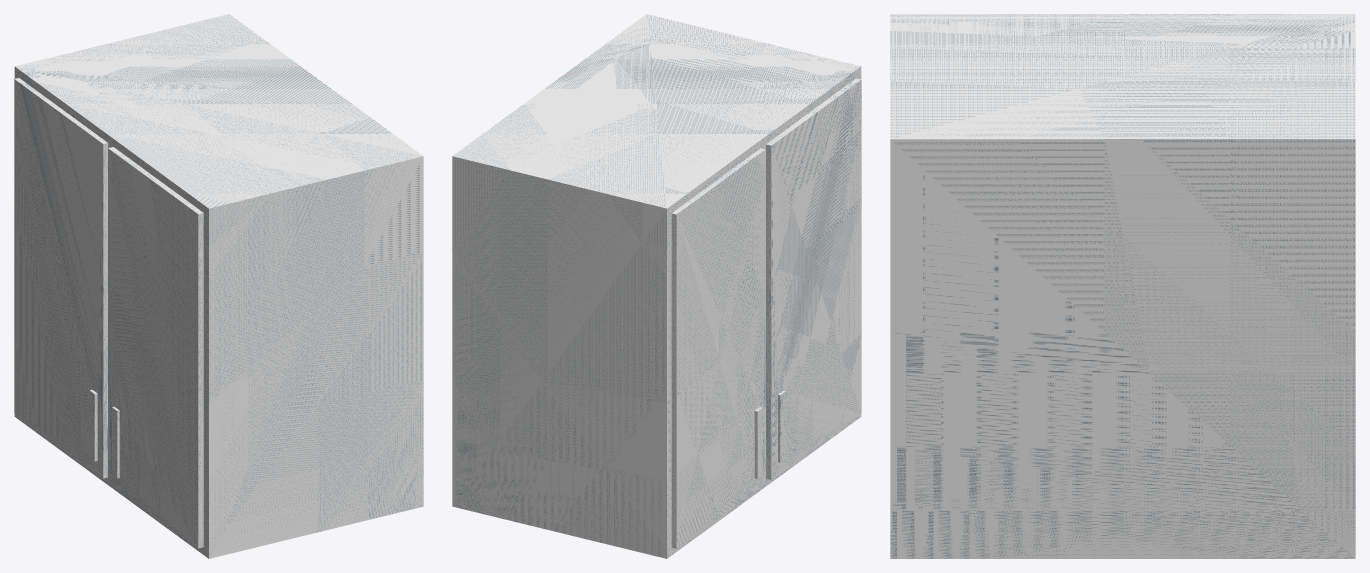
The model's file is counter-top.fbx.
The picture shows the model from 3 angles, left to right: view 1: azimuth 30°, elevation 25°; view 2: azimuth 150°, elevation 25°; view 3: azimuth 270°, elevation 25°; orthographic projection. The views are drawn at different scales.
Visible parts, largest first — view 1: Model; view 2: Model; view 3: Model.
Boxes of the visible parts, x1,y1,x2,y2 form: Model: (14,14,423,558); Model: (452,14,861,558); Model: (890,14,1355,558).
Size of the model in its own units: 22.9 by 34.44 by 34.62.
